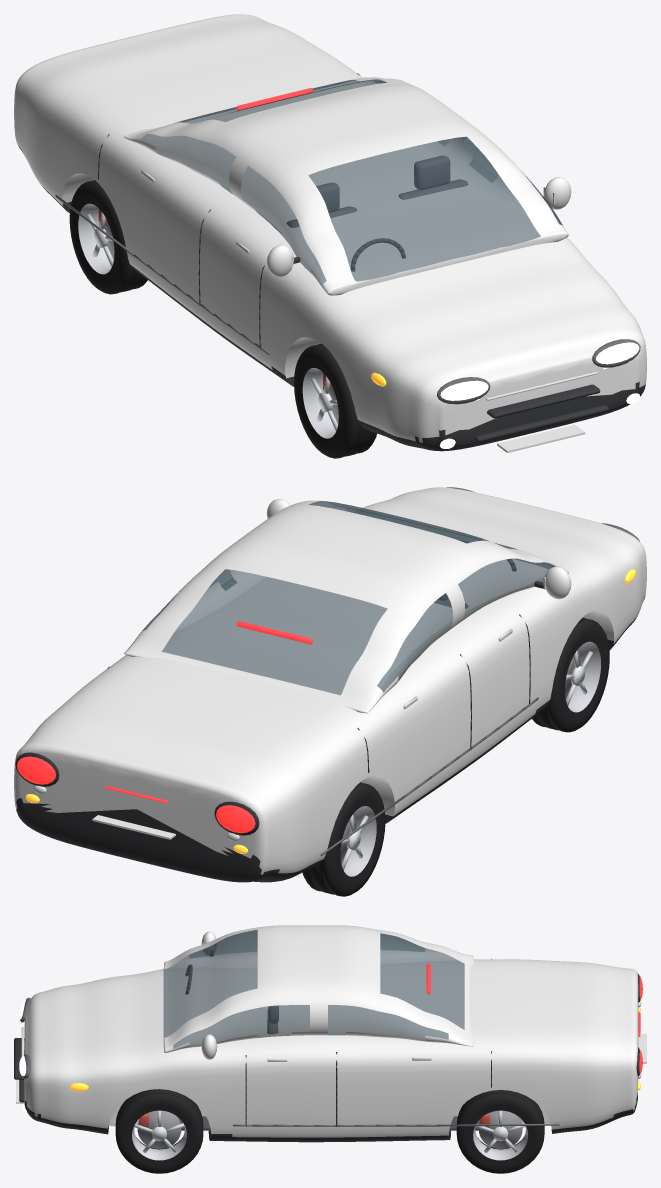
The model's file is voiture-berline-trafic.glb.
3 views of the same model, one above another, from view 1: azimuth 30°, elevation 25°; view 2: azimuth 150°, elevation 25°; view 3: azimuth 270°, elevation 25° (orthographic). The views are drawn at different scales.
Visible parts, largest first — view 1: carrosserie, habitacle, roue_av_g_m, roue_ar_g_m, calandre, appuie_tete.001, prise_air, plaque_av, jonc, phare, retro, retro.001 (+1 smaller); view 2: carrosserie, habitacle, roue_ar_g_m, roue_av_g_m, feu_ar, feu_ar.001, jonc, retro, plaque_ar; view 3: carrosserie, habitacle, roue_av_d_m, roue_ar_d_m, jonc.001.
Boxes of the visible parts, x1=… form: carrosserie: x1=14, y1=14, x2=646, y2=451; habitacle: x1=124, y1=77, x2=568, y2=295; roue_av_g_m: x1=294, y1=343, x2=377, y2=458; roue_ar_g_m: x1=69, y1=180, x2=147, y2=294; calandre: x1=487, y1=384, x2=600, y2=418; appuie_tete.001: x1=414, y1=155, x2=450, y2=190; prise_air: x1=475, y1=405, x2=608, y2=442; plaque_av: x1=497, y1=424, x2=585, y2=452; jonc: x1=55, y1=195, x2=269, y2=354; phare: x1=440, y1=380, x2=488, y2=400; retro: x1=266, y1=244, x2=294, y2=277; retro.001: x1=544, y1=177, x2=571, y2=209; carrosserie: x1=14, y1=487, x2=646, y2=882; habitacle: x1=124, y1=500, x2=568, y2=713; roue_ar_g_m: x1=302, y1=782, x2=385, y2=896; roue_av_g_m: x1=532, y1=617, x2=609, y2=732; feu_ar: x1=216, y1=805, x2=255, y2=833; feu_ar.001: x1=17, y1=756, x2=55, y2=784; jonc: x1=320, y1=697, x2=538, y2=856; retro: x1=544, y1=566, x2=571, y2=599; plaque_ar: x1=92, y1=815, x2=175, y2=839; carrosserie: x1=24, y1=959, x2=638, y2=1142; habitacle: x1=163, y1=925, x2=473, y2=1052; roue_av_d_m: x1=115, y1=1089, x2=203, y2=1173; roue_ar_d_m: x1=456, y1=1090, x2=544, y2=1173; jonc.001: x1=233, y1=1123, x2=559, y2=1126.
Bounding box in the file's own units: 2.02 × 1.45 × 4.82.
